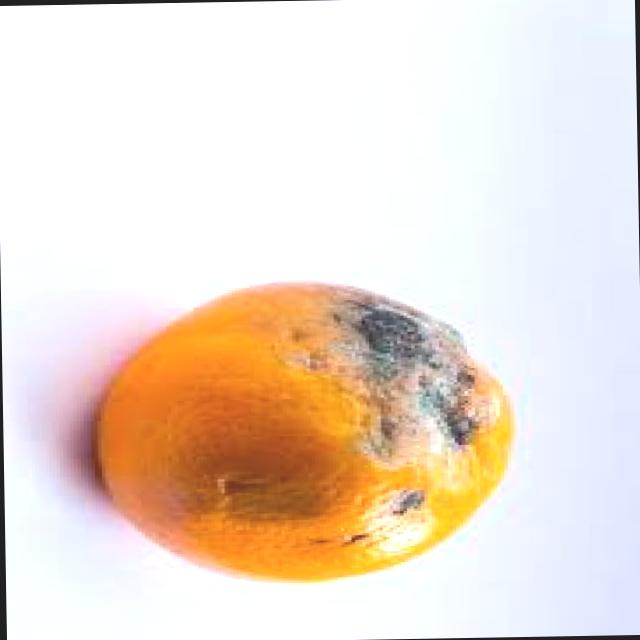organic: (89, 272, 520, 589)
